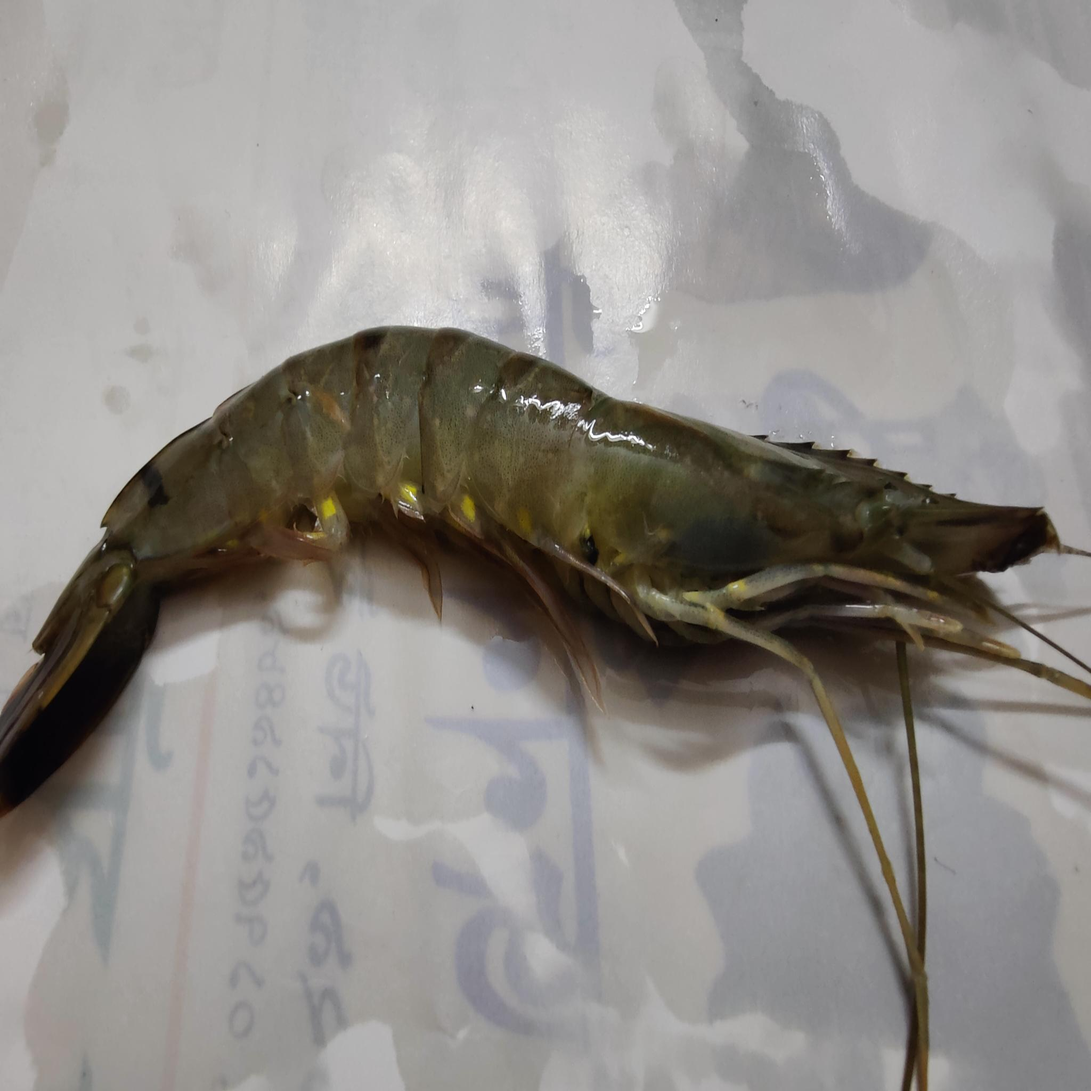whitespot: (593, 408, 814, 533), (448, 381, 585, 482)
